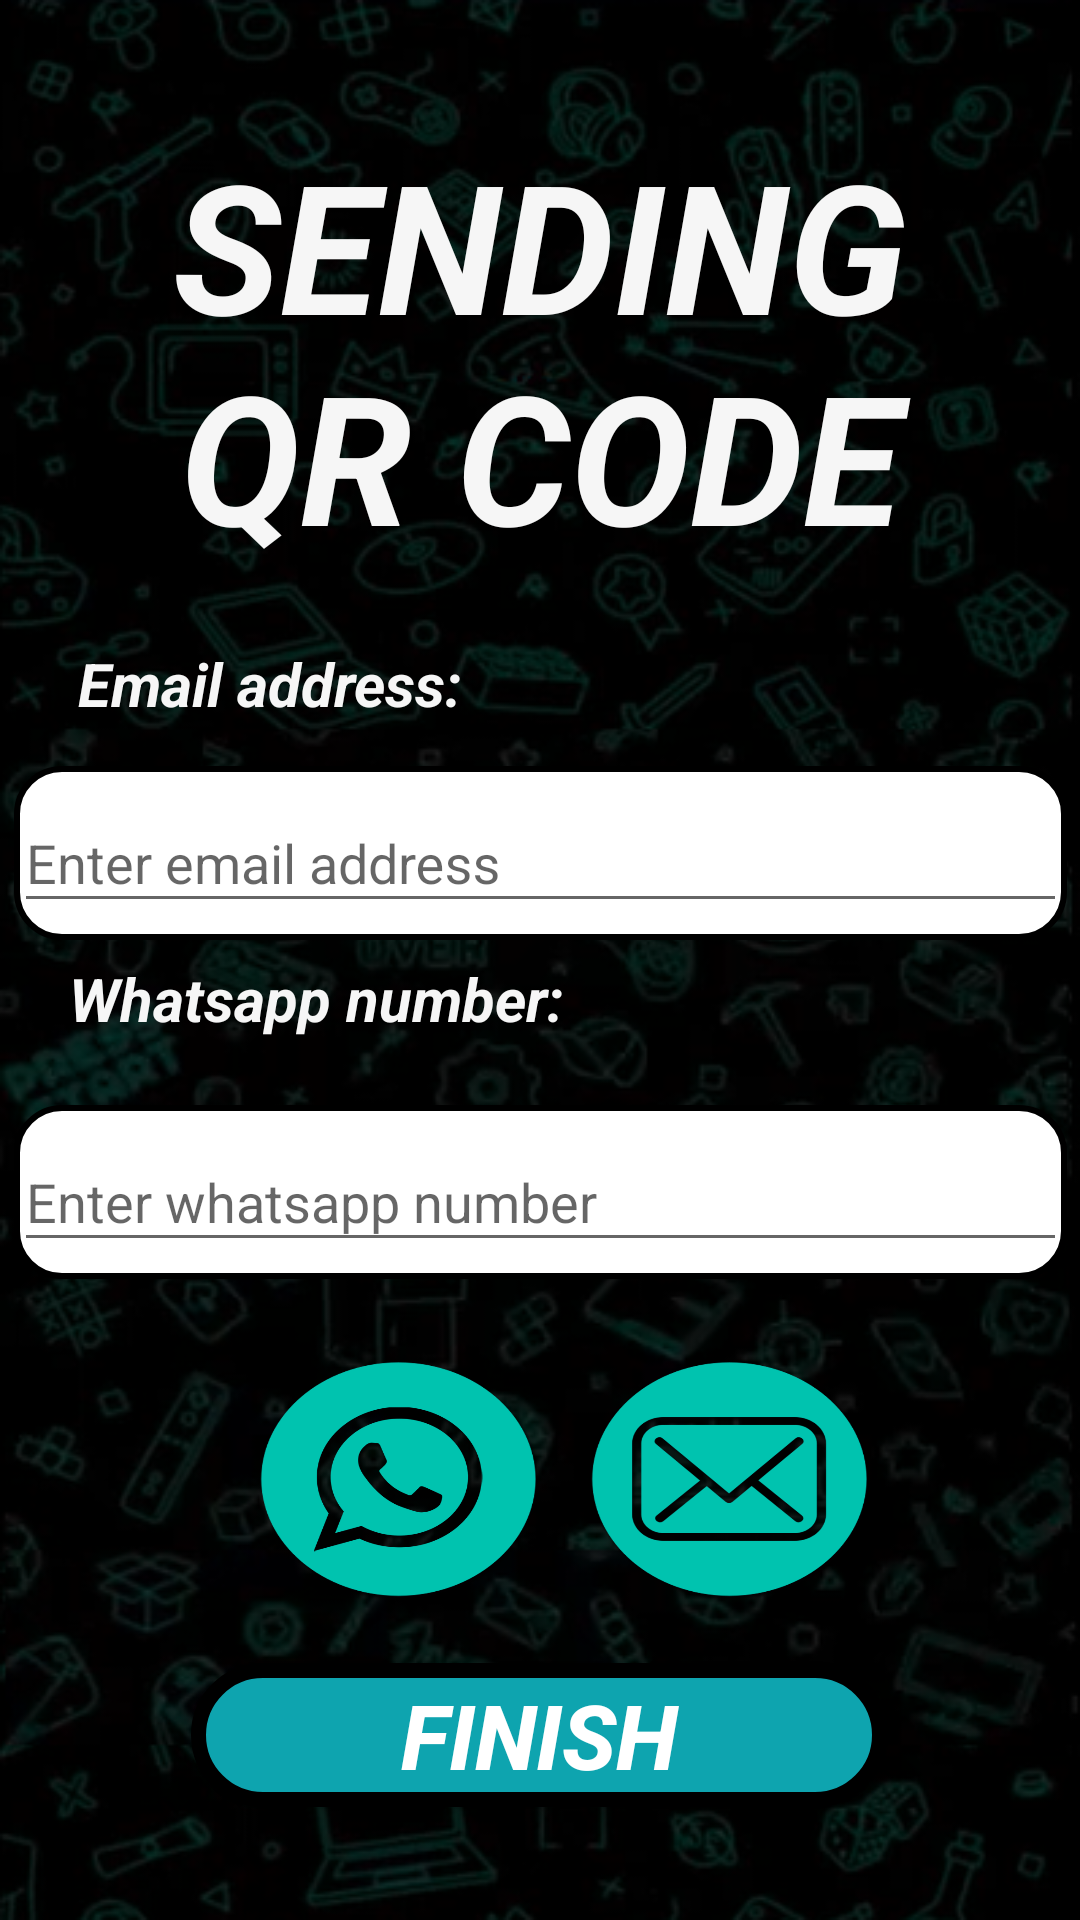

Screen size 1080*1920. Icon name, then its center in pixels as point (x, y):
iconemail: point (728, 1482)
